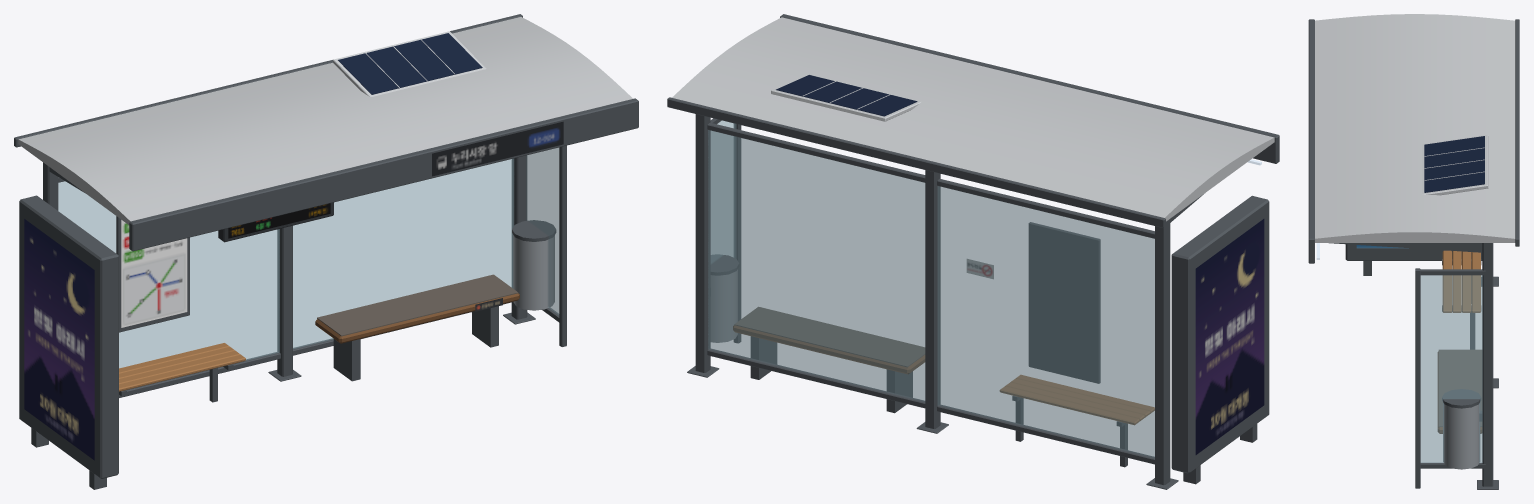
Rendered from SC_Str_BusStop_Shelter.gltf.
3 renders of one model, left to right at view 1: azimuth 30°, elevation 25°; view 2: azimuth 150°, elevation 25°; view 3: azimuth 270°, elevation 25°, orthographic. The views are drawn at different scales.
Parts seen in each view (by area): view 1: SC_Str_BusStop_Shelter; view 2: SC_Str_BusStop_Shelter; view 3: SC_Str_BusStop_Shelter.
Part boxes in pixels (x1,y1,x2,y2): SC_Str_BusStop_Shelter: (14,14,638,489); SC_Str_BusStop_Shelter: (667,14,1279,489); SC_Str_BusStop_Shelter: (1308,14,1519,489).
Bounding box in the file's own units: 4.86 × 2.73 × 1.93.
5 materials, 5 textured.
